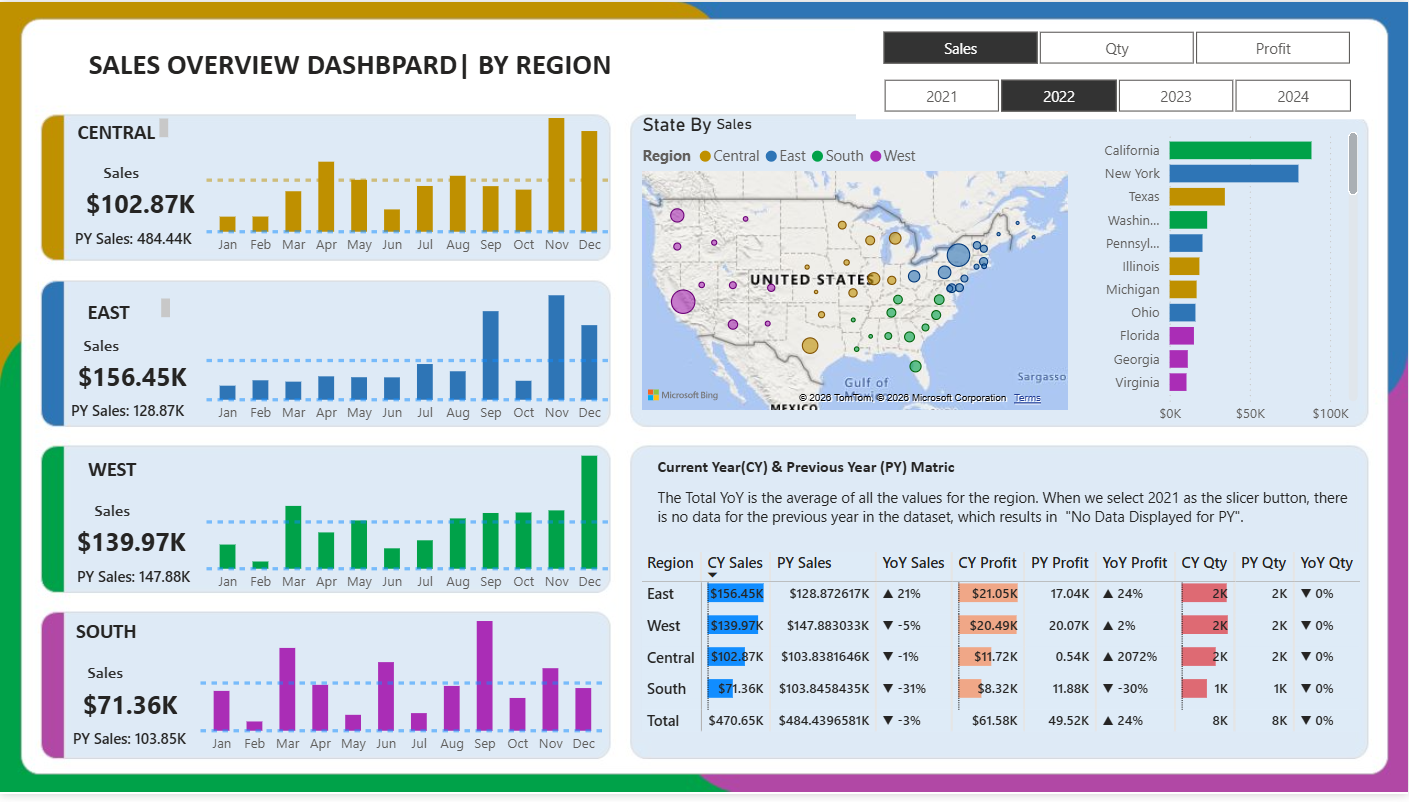

The dashboard page shown, as its layout file describes it:
{"tool":"powerbi","page":{"name":"Sales ODBR","canvas":[1280,720],"ordinal":0},"visuals":[{"type":"textbox","box":[61.2,101.1,96.7,29.3],"z":0},{"type":"slicer","fields":{"Values":["Calendar Table.Year"]},"box":[778.1,63.2,473.7,42.8],"z":1000},{"type":"slicer","fields":{"Values":["Select Matric.Select Matric"]},"box":[777.6,20.4,474.4,42.6],"z":2000},{"type":"cardVisual","fields":{"Data":["Sales Data.Total Sales"]},"box":[61.2,142.8,134.8,67.4],"z":3000},{"type":"card","fields":{"Values":["Sales Data.Dynamic Title"]},"box":[61.2,142.8,98.4,25.7],"z":4000},{"type":"card","fields":{"Values":["Sales Data.PY KPI Sales"]},"box":[54.1,203.9,134.8,26.6],"z":5000},{"type":"clusteredColumnChart","fields":{"Y":["Sales Data.Total Sales"],"Category":["Calendar Table.Month"]},"box":[182.7,85.1,377.7,153.4],"z":6000},{"type":"textbox","box":[54.1,35.5,529.4,65.6],"z":7000},{"type":"textbox","box":[44.3,264.2,115.3,29.3],"z":8000},{"type":"cardVisual","fields":{"Data":["Sales Data.Total Sales"]},"box":[54.1,299.7,134.8,67.4],"z":9000},{"type":"card","fields":{"Values":["Sales Data.Dynamic Title"]},"box":[42.6,299.7,98.4,25.7],"z":10000},{"type":"card","fields":{"Values":["Sales Data.PY KPI Sales"]},"box":[42.6,360,146.3,26.6],"z":11000},{"type":"clusteredColumnChart","fields":{"Y":["Sales Data.Total Sales"],"Category":["Calendar Table.Month"]},"box":[182.7,238.5,377.7,153.4],"z":12000},{"type":"textbox","box":[48.1,421.3,115.3,29.3],"z":13000},{"type":"cardVisual","fields":{"Data":["Sales Data.Total Sales"]},"box":[52.3,450.4,134.8,67.4],"z":14000},{"type":"card","fields":{"Values":["Sales Data.Dynamic Title"]},"box":[52.3,450.4,98.4,25.7],"z":15000},{"type":"card","fields":{"Values":["Sales Data.PY KPI Sales"]},"box":[47.9,510.7,146.3,26.6],"z":16000},{"type":"clusteredColumnChart","fields":{"Y":["Sales Data.Total Sales"],"Category":["Calendar Table.Month"]},"box":[182.7,391.9,377.7,153.4],"z":17000},{"type":"textbox","box":[54.1,407.9,96.7,42.6],"z":18000},{"type":"cardVisual","fields":{"Data":["Sales Data.Total Sales"]},"box":[58.4,598.2,135.2,67.1],"z":19000},{"type":"card","fields":{"Values":["Sales Data.Dynamic Title"]},"box":[46.8,597.6,98.4,25.7],"z":20000},{"type":"card","fields":{"Values":["Sales Data.PY KPI Sales"]},"box":[44.7,658.5,145.9,27.2],"z":21000},{"type":"clusteredColumnChart","fields":{"Y":["Sales Data.Total Sales"],"Category":["Calendar Table.Month"]},"box":[177.1,539.1,377.7,153.4],"z":22000},{"type":"textbox","box":[48.5,555,96.7,42.6],"z":23000},{"type":"map","title":"State By","fields":{"Size":["Sales Data.Total Sales"],"Category":["Sales Data.State/Province"],"Series":["Sales Data.Region"]},"box":[579,101.1,397.2,275.8],"z":24000},{"type":"card","fields":{"Values":["Sales Data.DY_map"]},"box":[583.4,69.2,167.6,86.9],"z":25000},{"type":"barChart","fields":{"Y":["Sales Data.Total Sales"],"Category":["Sales Data.State/Province"],"Series":["Sales Data.Region"]},"box":[986.9,105.5,251.8,286.4],"z":26000},{"type":"pivotTable","fields":{"Rows":["Sales Data.Region"],"Values":["Sales Data.CY Sales","Sales Data.PY Sales","Sales Data.YoY Sales","Sales Data.CY Profit","Sales Data.PY Profit","Sales Data.YoY Profit","Sales Data.CY Qty","Sales Data.PY Qty","Sales Data.YoY Qty"]},"box":[578.1,494.8,673.9,191.5],"z":27000},{"type":"textbox","box":[592.7,408.2,434.5,28.2],"z":30000},{"type":"textbox","box":[592.7,436.4,646.4,48.2],"z":30001}]}

Visuals, with their boxes in screenshot pixels (x1, y1, x2, y2), scaled from the page's 1280x720 canvas onto the 1409x802 screenshot:
textbox: (left=67, top=113, right=174, bottom=145)
slicer - Calendar Table.Year: (left=857, top=70, right=1378, bottom=118)
slicer - Select Matric.Select Matric: (left=856, top=23, right=1378, bottom=70)
cardVisual - Sales Data.Total Sales: (left=67, top=159, right=216, bottom=234)
card - Sales Data.Dynamic Title: (left=67, top=159, right=176, bottom=188)
card - Sales Data.PY KPI Sales: (left=60, top=227, right=208, bottom=257)
clusteredColumnChart - Sales Data.Total Sales x Calendar Table.Month: (left=201, top=95, right=617, bottom=266)
textbox: (left=60, top=40, right=642, bottom=113)
textbox: (left=49, top=294, right=176, bottom=327)
cardVisual - Sales Data.Total Sales: (left=60, top=334, right=208, bottom=409)
card - Sales Data.Dynamic Title: (left=47, top=334, right=155, bottom=362)
card - Sales Data.PY KPI Sales: (left=47, top=401, right=208, bottom=431)
clusteredColumnChart - Sales Data.Total Sales x Calendar Table.Month: (left=201, top=266, right=617, bottom=437)
textbox: (left=53, top=469, right=180, bottom=502)
cardVisual - Sales Data.Total Sales: (left=58, top=502, right=206, bottom=577)
card - Sales Data.Dynamic Title: (left=58, top=502, right=166, bottom=530)
card - Sales Data.PY KPI Sales: (left=53, top=569, right=214, bottom=598)
clusteredColumnChart - Sales Data.Total Sales x Calendar Table.Month: (left=201, top=437, right=617, bottom=607)
textbox: (left=60, top=454, right=166, bottom=502)
cardVisual - Sales Data.Total Sales: (left=64, top=666, right=213, bottom=741)
card - Sales Data.Dynamic Title: (left=52, top=666, right=160, bottom=694)
card - Sales Data.PY KPI Sales: (left=49, top=733, right=210, bottom=764)
clusteredColumnChart - Sales Data.Total Sales x Calendar Table.Month: (left=195, top=600, right=611, bottom=771)
textbox: (left=53, top=618, right=160, bottom=666)
"State By" map: (left=637, top=113, right=1075, bottom=420)
card - Sales Data.DY_map: (left=642, top=77, right=827, bottom=174)
barChart - Sales Data.Total Sales x Sales Data.State/Province: (left=1086, top=118, right=1364, bottom=437)
pivotTable - Sales Data.Region x Sales Data.CY Sales: (left=636, top=551, right=1378, bottom=764)
textbox: (left=652, top=455, right=1131, bottom=486)
textbox: (left=652, top=486, right=1364, bottom=540)
